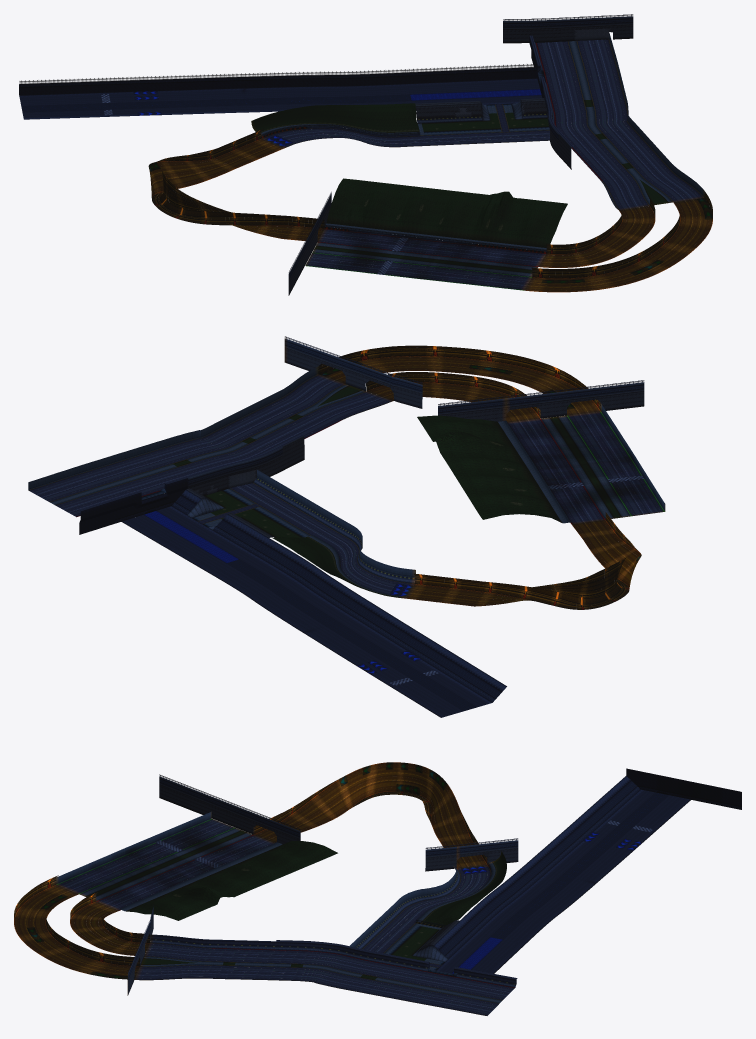
The model's file is Flood Zone_trackmesh.glb.
The picture shows the model from 3 angles, top to bottom: view 1: azimuth 30°, elevation 25°; view 2: azimuth 150°, elevation 25°; view 3: azimuth 270°, elevation 25°; orthographic projection. The views are drawn at different scales.
Parts seen in each view (by area): view 1: section20; view 2: section20; view 3: section20.
Part boxes in pixels (x1,y1,x2,y2): section20: [19, 14, 712, 295]; section20: [28, 336, 665, 717]; section20: [14, 762, 741, 1015].
Bounding box in the file's own units: 744 × 57.75 × 907.
Materials: 30 (30 with a texture image).
